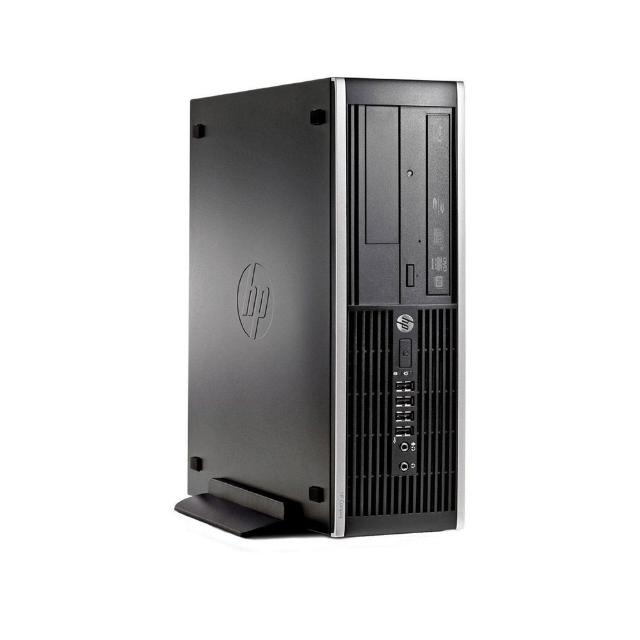Desktop-PC: (190, 80, 468, 538)
